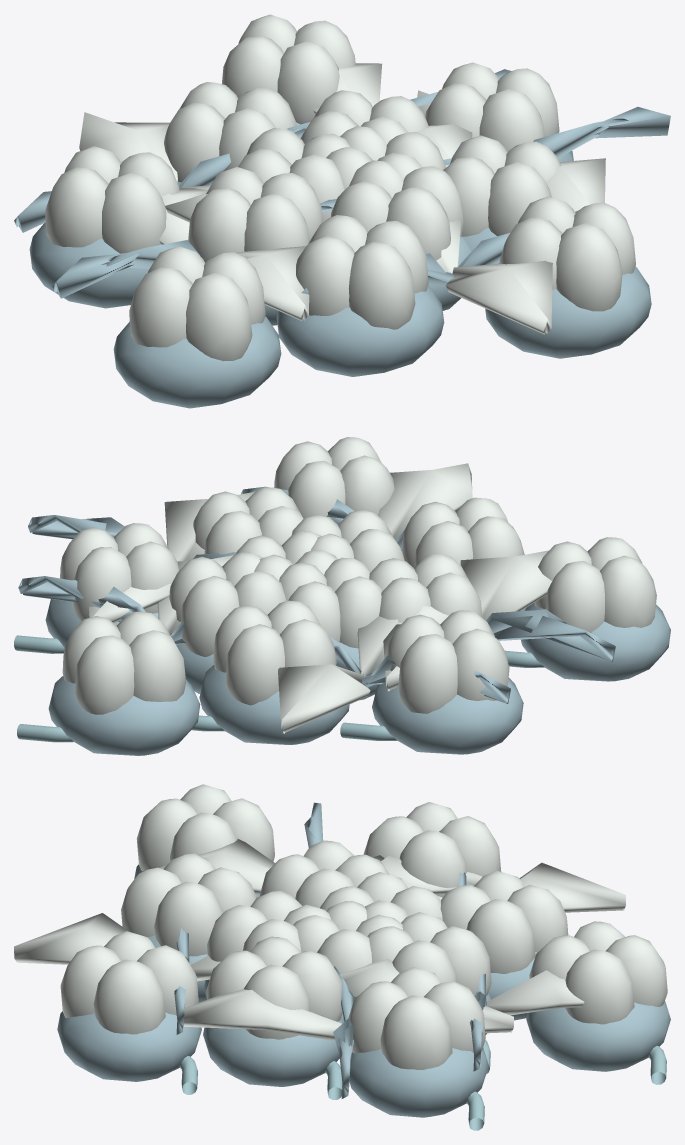
The model's file is bio_oxygen_reef_20_far.glb.
3 renders of one model, top to bottom at view 1: azimuth 30°, elevation 25°; view 2: azimuth 150°, elevation 25°; view 3: azimuth 270°, elevation 25°, orthographic. The views are drawn at different scales.
Visible parts, largest first — view 1: Lobed gas sac.048, Lobed gas sac.028, Lobed gas sac.036, Lobed gas sac.040, Lobed gas sac.016, Lobed gas sac.044, Photosynthetic cushion.012, Photosynthetic cushion.007, Lobed gas sac.032, Lobed gas sac.020, Lobed gas sac.024, Lobed gas sac.008 (+15 smaller); view 2: Lobed gas sac.044, Lobed gas sac.036, Lobed gas sac.048, Lobed gas sac.024, Photosynthetic cushion.011, Lobed gas sac.032, Lobed gas sac.040, Lobed gas sac.012, Photosynthetic cushion.009, Low buttress leaf.005, Lobed gas sac.028, Lobed gas sac.004 (+21 smaller); view 3: Lobed gas sac.040, Lobed gas sac.032, Lobed gas sac.044, Lobed gas sac.028, Lobed gas sac.024, Lobed gas sac.048, Lobed gas sac.036, Lobed gas sac.020, Photosynthetic cushion.011, Photosynthetic cushion.008, Photosynthetic cushion.010, Lobed gas sac.012 (+19 smaller).
Boxes of the visible parts, x1,y1,x2,y2 form: Lobed gas sac.048: (129, 246, 265, 361); Lobed gas sac.028: (296, 215, 428, 329); Lobed gas sac.036: (45, 146, 179, 253); Lobed gas sac.040: (499, 196, 635, 311); Lobed gas sac.016: (188, 167, 322, 262); Lobed gas sac.044: (222, 14, 355, 124); Photosynthetic cushion.012: (113, 316, 281, 408); Photosynthetic cushion.007: (276, 285, 444, 376); Lobed gas sac.032: (425, 62, 559, 151); Lobed gas sac.020: (443, 135, 560, 236); Lobed gas sac.024: (164, 82, 296, 182); Lobed gas sac.008: (331, 160, 463, 260); Lobed gas sac.044: (62, 611, 185, 714); Lobed gas sac.036: (386, 610, 509, 713); Lobed gas sac.048: (534, 537, 656, 632); Lobed gas sac.024: (213, 600, 336, 705); Photosynthetic cushion.011: (48, 676, 200, 755); Lobed gas sac.032: (60, 523, 178, 621); Lobed gas sac.040: (274, 437, 394, 518); Lobed gas sac.012: (169, 552, 286, 656); Photosynthetic cushion.009: (372, 677, 523, 754); Low buttress leaf.005: (278, 606, 448, 733); Lobed gas sac.028: (402, 497, 524, 567); Lobed gas sac.004: (279, 557, 382, 648); Lobed gas sac.040: (60, 931, 198, 1034); Lobed gas sac.032: (348, 967, 485, 1069); Lobed gas sac.044: (529, 921, 667, 1024); Lobed gas sac.028: (121, 853, 256, 956); Lobed gas sac.024: (440, 870, 568, 973); Lobed gas sac.048: (136, 784, 274, 871); Lobed gas sac.036: (363, 802, 501, 897); Lobed gas sac.020: (206, 936, 342, 1039); Photosynthetic cushion.011: (526, 1001, 670, 1071); Photosynthetic cushion.008: (349, 1048, 488, 1117); Photosynthetic cushion.010: (57, 1011, 201, 1081); Lobed gas sac.012: (367, 912, 491, 996).
Bounding box in the file's own units: 2.22 × 0.4497 × 2.18.
